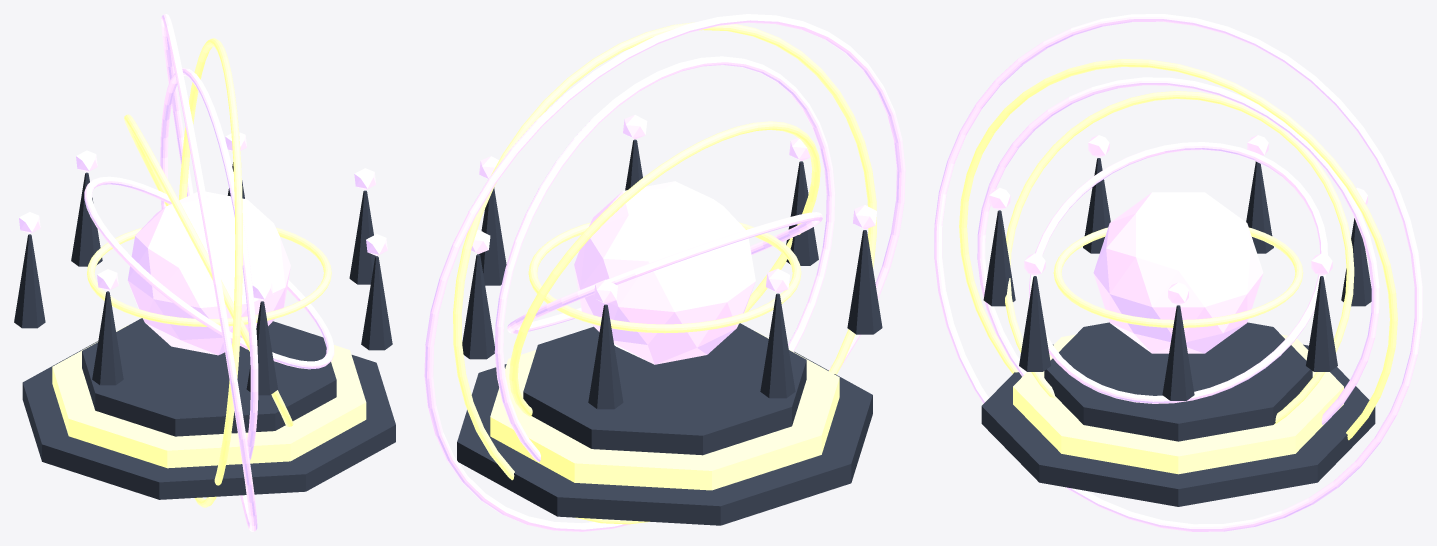
Rendered from gpu-blender-v30.glb.
3 renders of one model, left to right at view 1: azimuth 30°, elevation 25°; view 2: azimuth 150°, elevation 25°; view 3: azimuth 270°, elevation 25°, orthographic. The views are drawn at different scales.
Visible parts, largest first — view 1: Cylinder.002, Cylinder, SovereignCore_mcp-lens, Cylinder.001, Torus.005, Torus.004, Torus.003, Torus.001, Torus, Torus.002, Cone.003, Cone.006 (+4 smaller); view 2: Cylinder.002, SovereignCore_mcp-lens, Cylinder, Cylinder.001, Torus.005, Torus.003, Torus.004, Torus.002, Torus.001, Torus, Cone.002, Cone.003 (+4 smaller); view 3: SovereignCore_mcp-lens, Cylinder.002, Cylinder, Cylinder.001, Torus.005, Torus.004, Torus.003, Torus.002, Torus.001, Torus, Cone, Cone.001 (+5 smaller).
Boxes of the visible parts, bbox=[...] form: Cylinder.002: bbox=[82, 318, 336, 436]; Cylinder: bbox=[22, 341, 395, 499]; SovereignCore_mcp-lens: bbox=[127, 191, 290, 355]; Cylinder.001: bbox=[52, 325, 366, 468]; Torus.005: bbox=[161, 14, 257, 531]; Torus.004: bbox=[179, 38, 242, 507]; Torus.003: bbox=[160, 68, 258, 459]; Torus.001: bbox=[84, 176, 334, 369]; Torus: bbox=[87, 227, 331, 326]; Torus.002: bbox=[124, 114, 293, 426]; Cone.003: bbox=[14, 234, 45, 328]; Cone.006: bbox=[361, 256, 392, 350]; Cylinder.002: bbox=[523, 323, 806, 455]; SovereignCore_mcp-lens: bbox=[574, 181, 755, 364]; Cylinder: bbox=[457, 351, 872, 525]; Cylinder.001: bbox=[490, 330, 839, 490]; Torus.005: bbox=[424, 14, 905, 531]; Torus.003: bbox=[494, 56, 835, 461]; Torus.004: bbox=[453, 22, 876, 524]; Torus.002: bbox=[509, 121, 820, 416]; Torus.001: bbox=[507, 212, 822, 333]; Torus: bbox=[528, 222, 801, 333]; Cone.002: bbox=[588, 304, 623, 409]; Cone.003: bbox=[760, 293, 795, 398]; SovereignCore_mcp-lens: bbox=[1093, 192, 1263, 353]; Cylinder.002: bbox=[1044, 322, 1312, 441]; Cylinder: bbox=[981, 344, 1375, 506]; Cylinder.001: bbox=[1013, 334, 1343, 474]; Torus.005: bbox=[934, 14, 1422, 531]; Torus.004: bbox=[959, 59, 1397, 440]; Torus.003: bbox=[977, 77, 1379, 424]; Torus.002: bbox=[1005, 91, 1354, 423]; Torus.001: bbox=[1029, 142, 1327, 403]; Torus: bbox=[1053, 227, 1303, 327]; Cone: bbox=[1162, 305, 1194, 400]; Cone.001: bbox=[1306, 276, 1337, 371].
Size of the model in its own units: 4.41 by 5.93 by 5.46.
